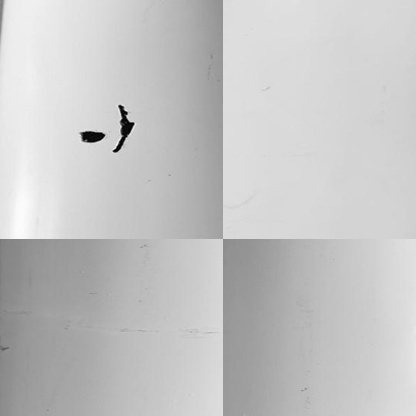kongdong: (113, 104, 140, 154), (78, 125, 104, 146)
